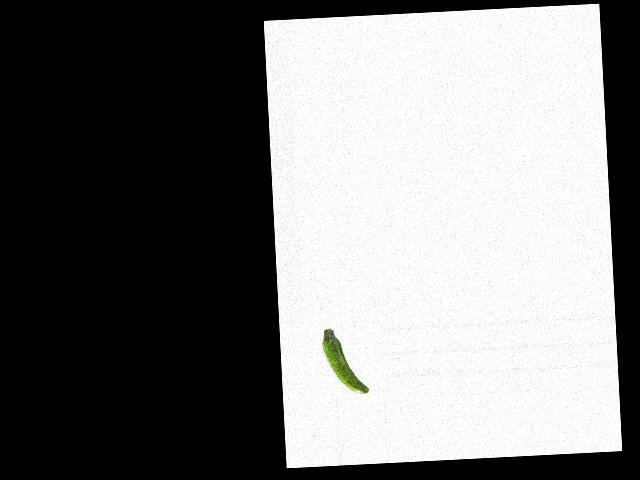cucumber: (321, 326, 369, 395)
